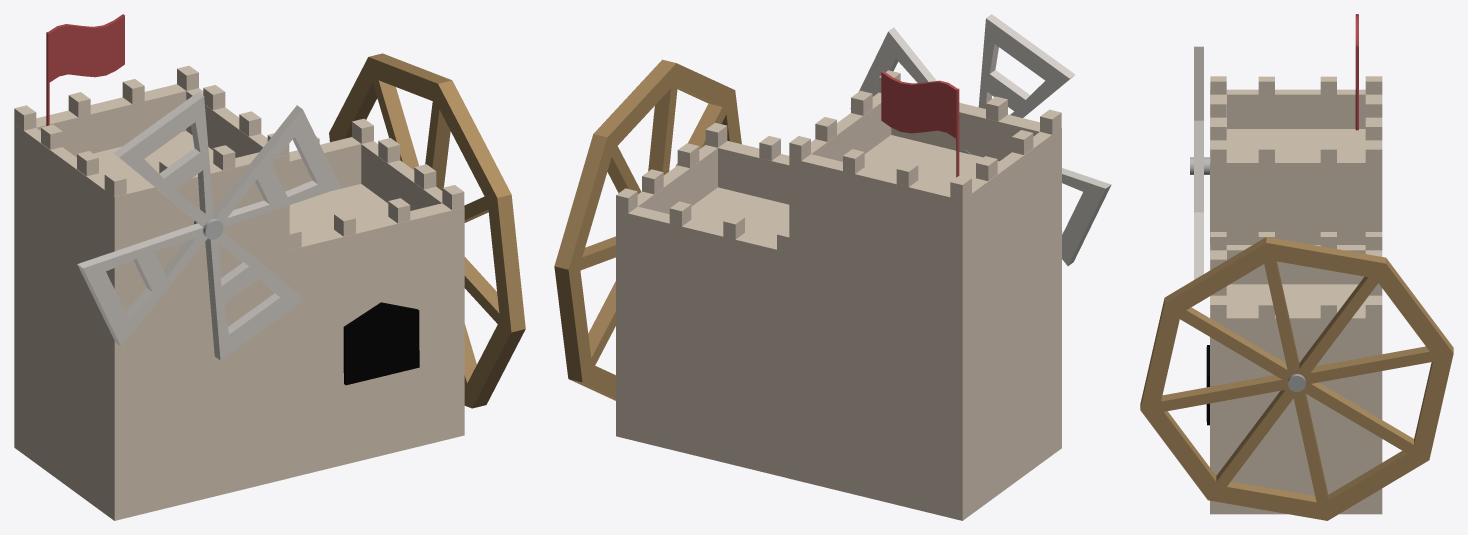
Rendered from resource tower 1.fbx.
3 views of the same model, side by side, from view 1: azimuth 30°, elevation 25°; view 2: azimuth 150°, elevation 25°; view 3: azimuth 270°, elevation 25° (orthographic). The views are drawn at different scales.
Visible parts, largest first — view 1: polySurface113, polySurface114, polySurface115; view 2: polySurface113, polySurface115, polySurface114; view 3: polySurface113, polySurface115, polySurface114.
Boxes of the visible parts, x1,y1,x2,y2 form: polySurface113: [14, 14, 464, 520]; polySurface114: [77, 92, 340, 360]; polySurface115: [329, 53, 525, 408]; polySurface113: [616, 70, 1061, 520]; polySurface115: [554, 59, 741, 400]; polySurface114: [850, 14, 1111, 265]; polySurface113: [1190, 14, 1382, 514]; polySurface115: [1140, 237, 1453, 520]; polySurface114: [1194, 46, 1203, 279].
Bounding box in the file's own units: 0.8078 × 0.7861 × 0.613.
